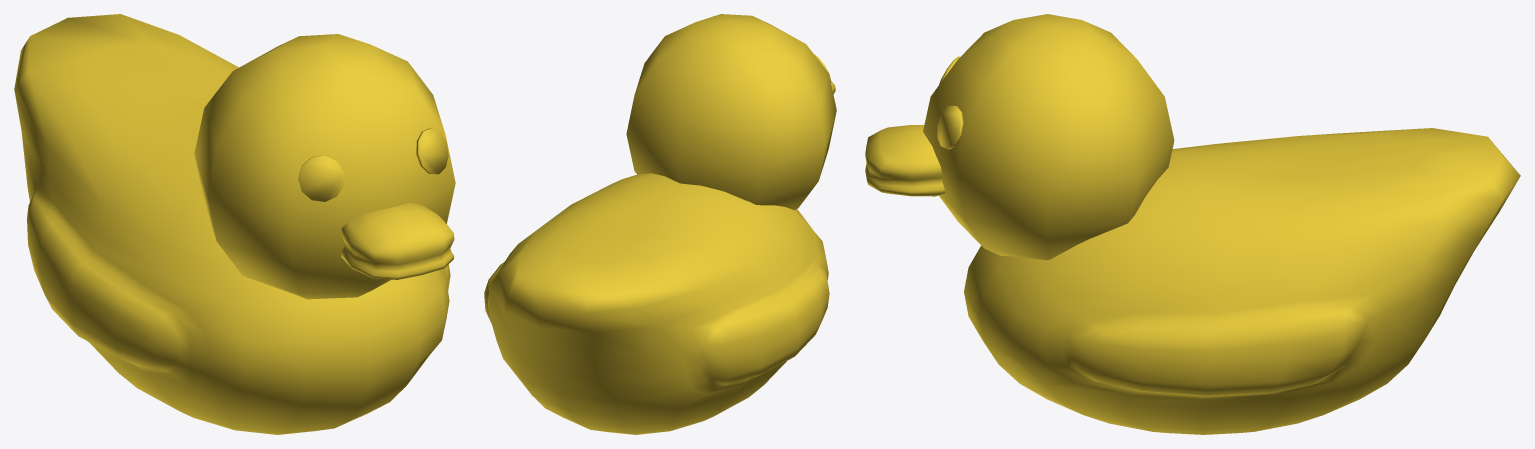
The model's file is Duck.fbx.
3 renders of one model, left to right at view 1: azimuth 30°, elevation 25°; view 2: azimuth 150°, elevation 25°; view 3: azimuth 270°, elevation 25°, orthographic. The views are drawn at different scales.
Parts seen in each view (by area): view 1: Duck; view 2: Duck; view 3: Duck.
Boxes of the visible parts, x1,y1,x2,y2 form: Duck: [14, 14, 455, 434]; Duck: [484, 14, 836, 434]; Duck: [865, 14, 1520, 434].
Bounding box in the file's own units: 459 × 534 × 812.
